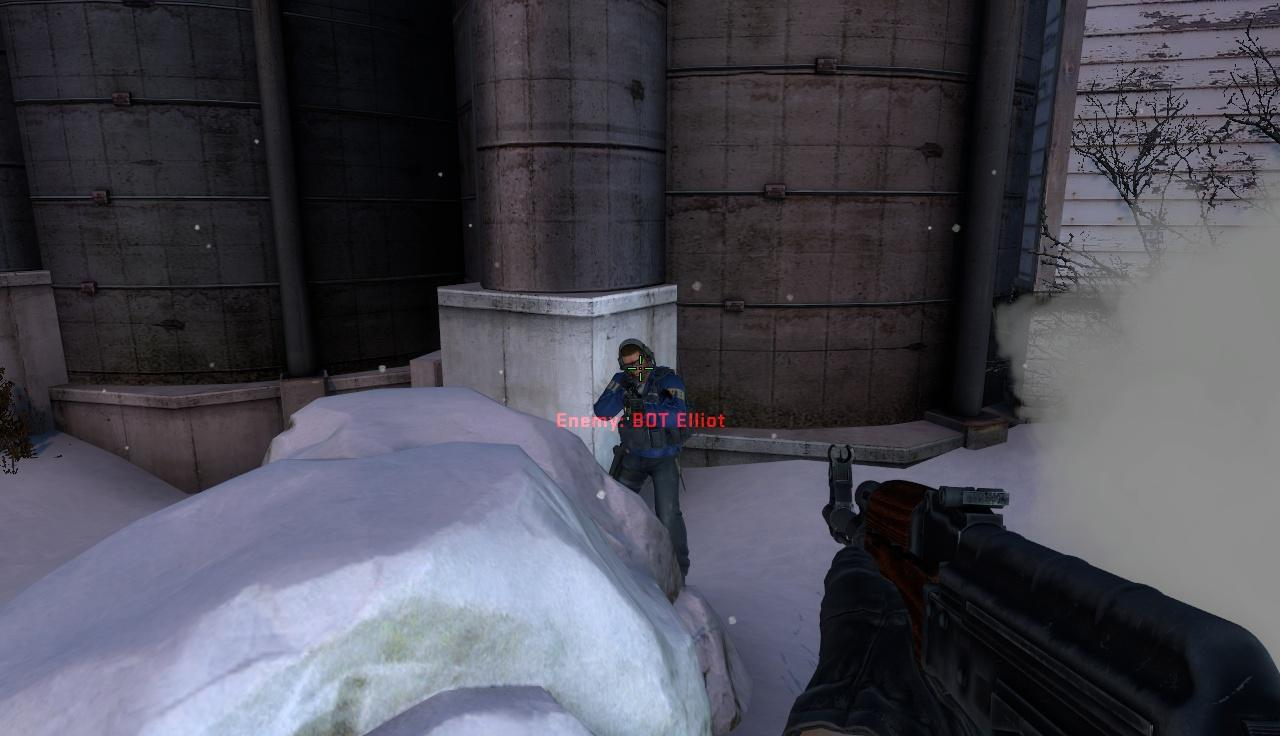ct: (606, 337, 682, 489)
cthead: (619, 339, 654, 379)
rifle: (808, 442, 1280, 736)
